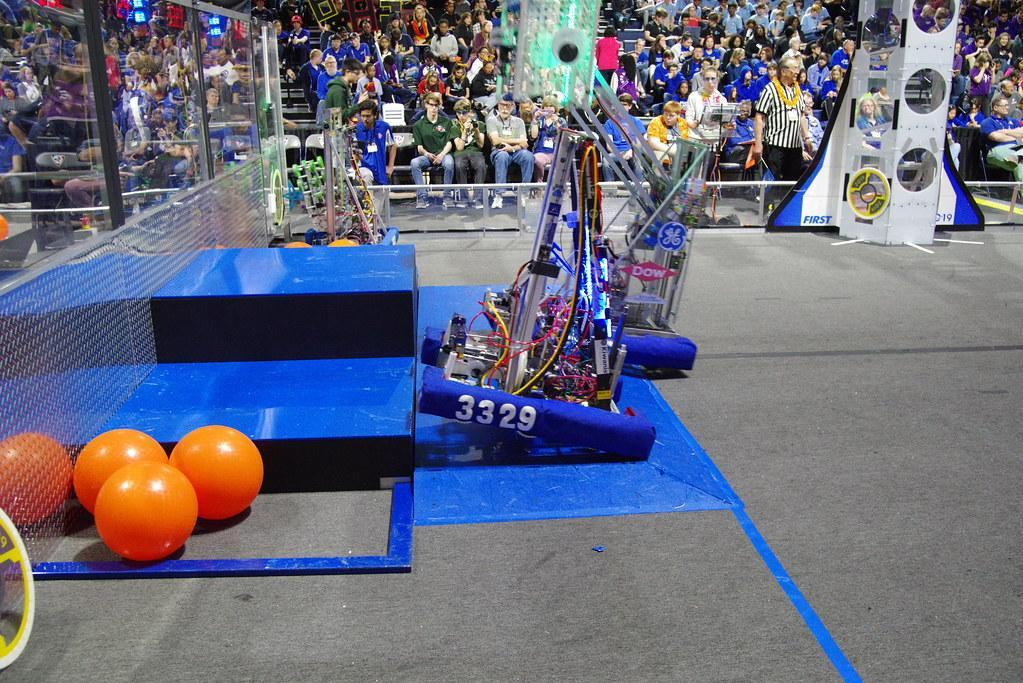robot: (412, 102, 666, 467), (522, 129, 717, 369), (269, 105, 400, 260)
